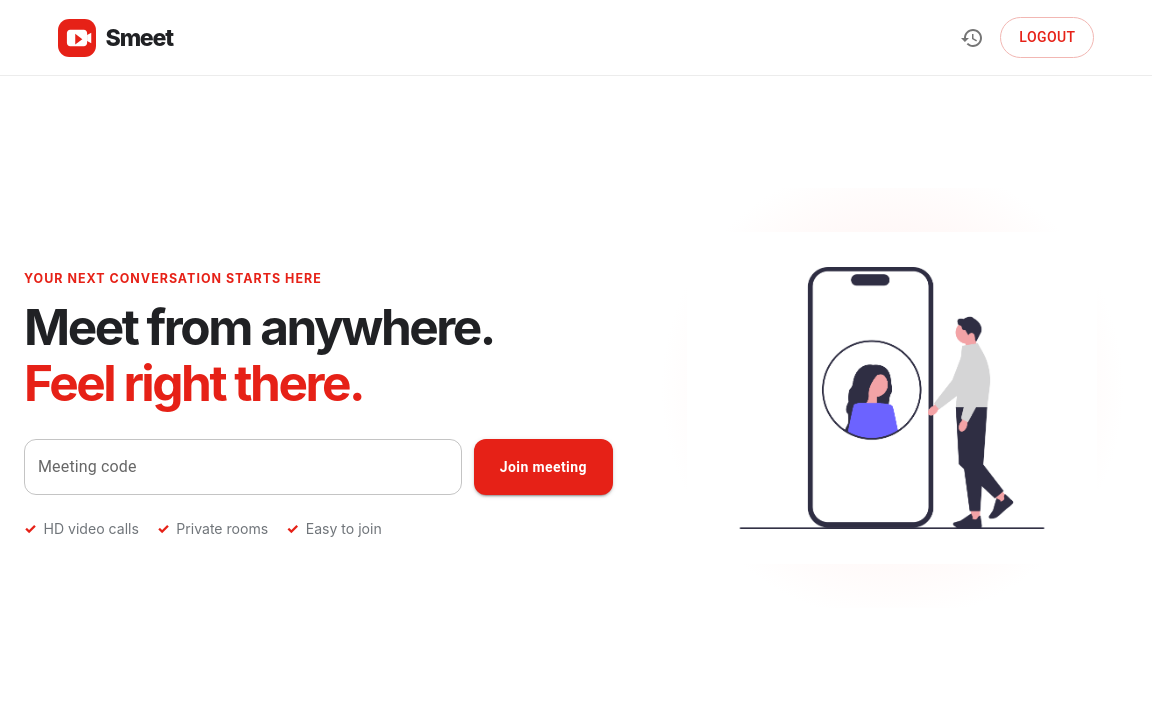
Scenario: authenticated dashboard and meeting history routes remain connected
Expected: the heading "Meet from anywhere.Feel right there." is shown, [24,297,494,413]
Click the button named "Meeting history". click: (972, 38)
box: [952,18,992,58]
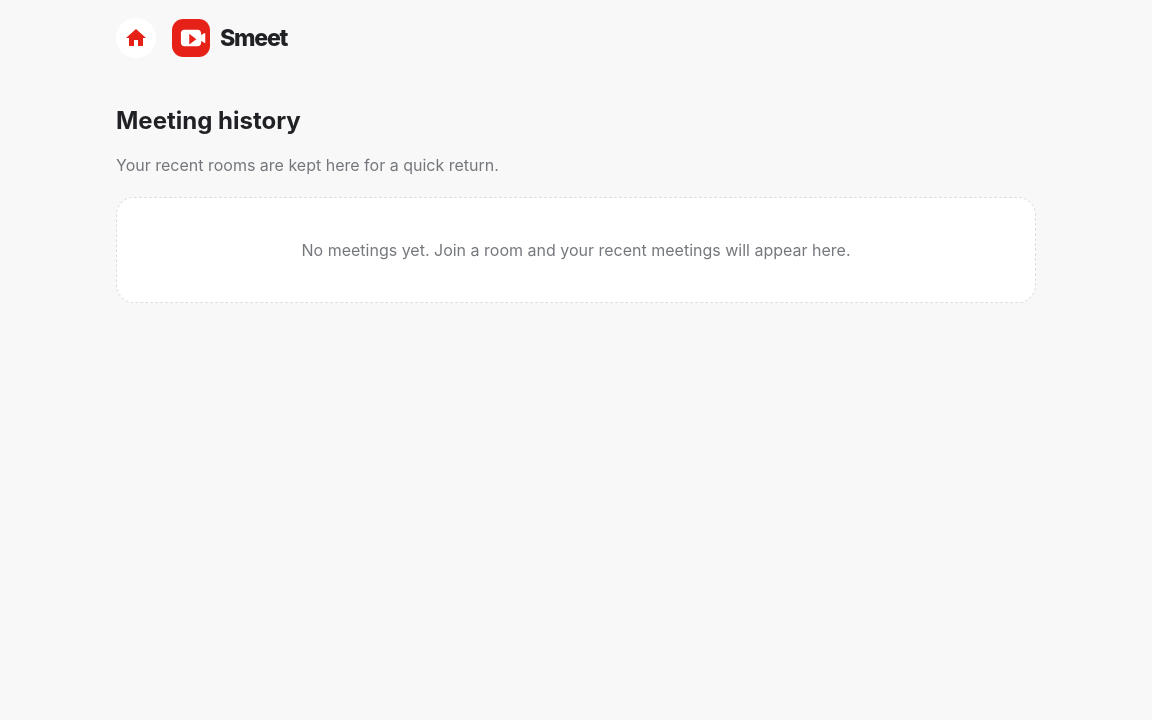
Expected: the heading "Meeting history" is shown, [116,106,301,135]
Expected: the text "No meetings yet" is shown, [302,240,850,260]
